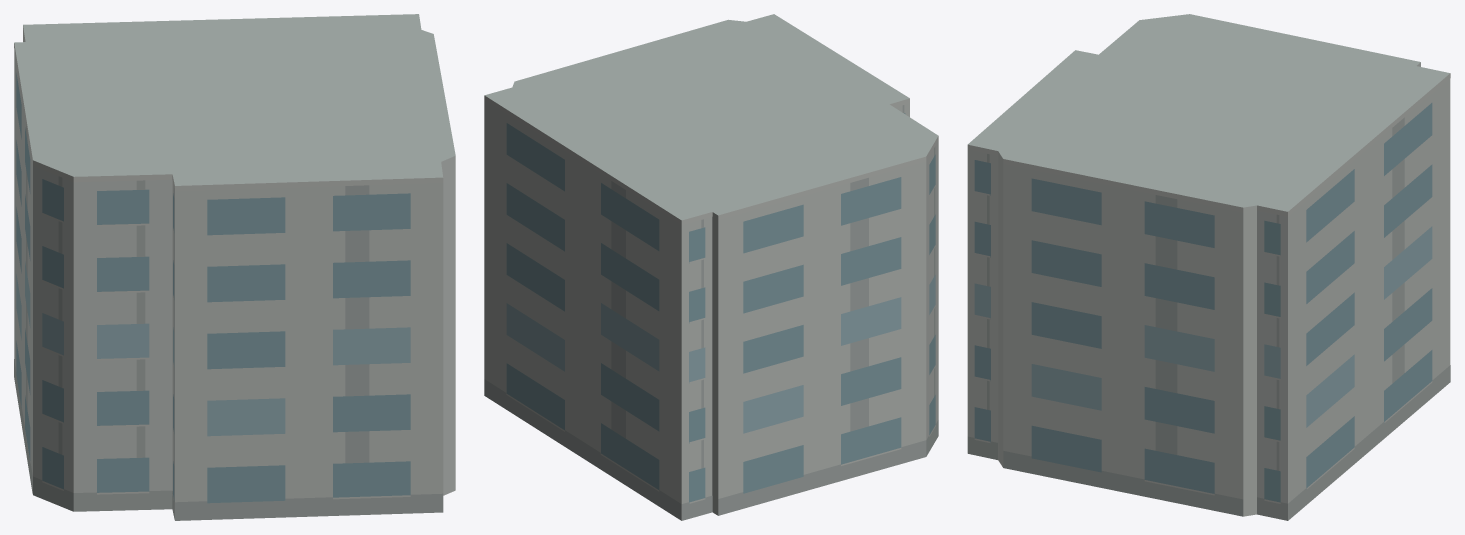
The model's file is residential-9b5a1a06-162f-43a0-a58d-d293eb6bf3fc.glb.
3 renders of one model, left to right at view 1: azimuth 30°, elevation 25°; view 2: azimuth 150°, elevation 25°; view 3: azimuth 270°, elevation 25°, orthographic. The views are drawn at different scales.
Parts seen in each view (by area): view 1: residential-9b5a1a06-162f-43a0-a58d-d293eb6bf3fc.tmp; view 2: residential-9b5a1a06-162f-43a0-a58d-d293eb6bf3fc.tmp; view 3: residential-9b5a1a06-162f-43a0-a58d-d293eb6bf3fc.tmp.
Boxes of the visible parts, x1,y1,x2,y2 form: residential-9b5a1a06-162f-43a0-a58d-d293eb6bf3fc.tmp: (14, 14, 455, 520); residential-9b5a1a06-162f-43a0-a58d-d293eb6bf3fc.tmp: (484, 14, 938, 520); residential-9b5a1a06-162f-43a0-a58d-d293eb6bf3fc.tmp: (967, 14, 1450, 520).
Bounding box in the file's own units: 20.6 × 15 × 21.25.
